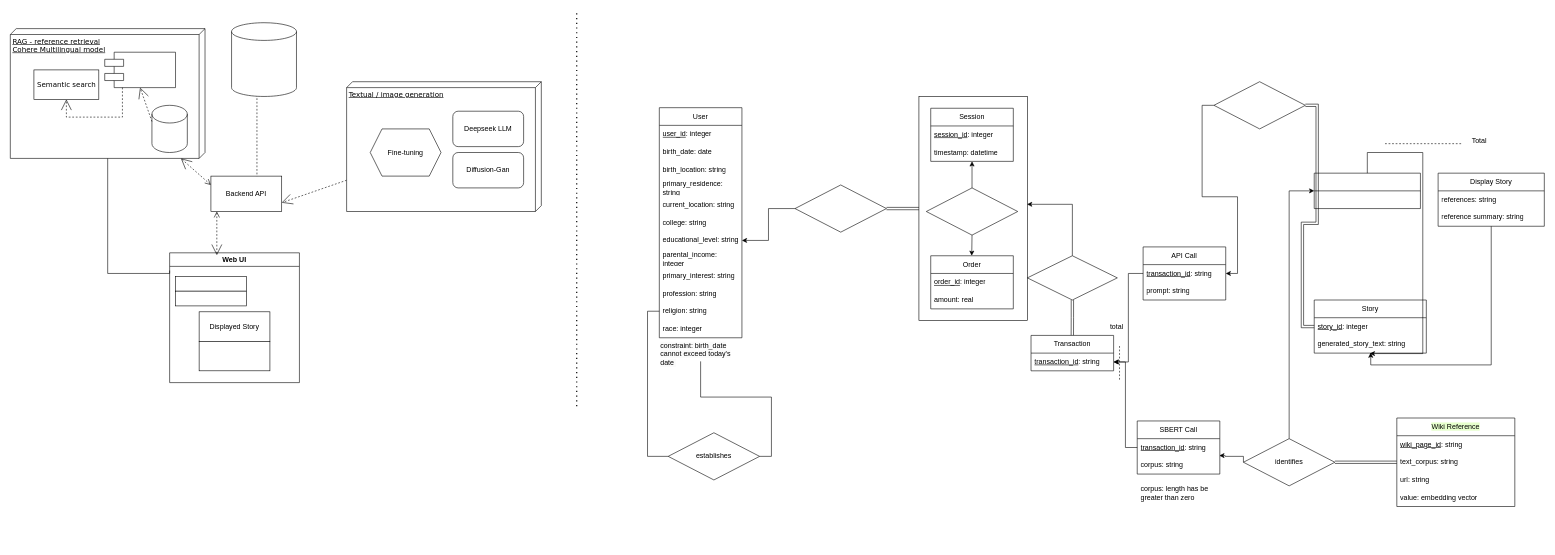
Image size: 1555x555. Some labels were removed from this diagram. Here are the shapes that lost their labels. From the top down, the centre of each, then its label:
At pixel 140 70: "Embedded Wiki Paragraphs".
At pixel 263 59: "Postgres Database".
At pixel 1259 105: "Generates".
At pixel 169 129: "Pinecone".
At pixel 840 208: "Completes".
At pixel 972 211: "Paid_by".
At pixel 1367 191: "Temp Story".
At pixel 210 283: "LinkedIn Integration".
At pixel 1072 277: "Initiates".
At pixel 210 298: "Q&A flow".
At pixel 234 356: "References".
